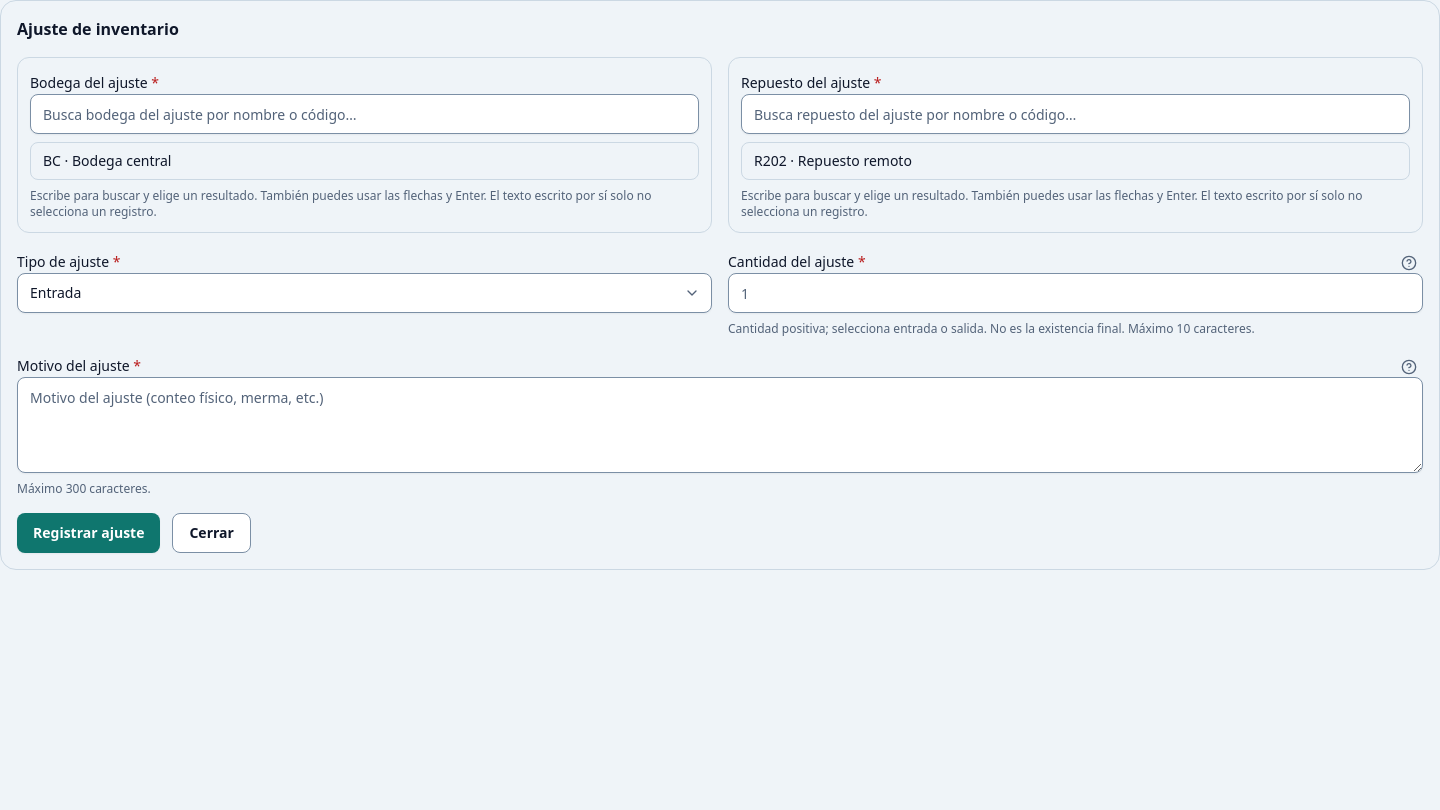
Test: inventario HTTP › ajustes preservan campos y detalles 400
Expected: the option "R202 · Repuesto remoto" is shown, [742,143,1409,179]
Click the option "BC · Bodega central" at [107, 160], box [31,143,698,179]
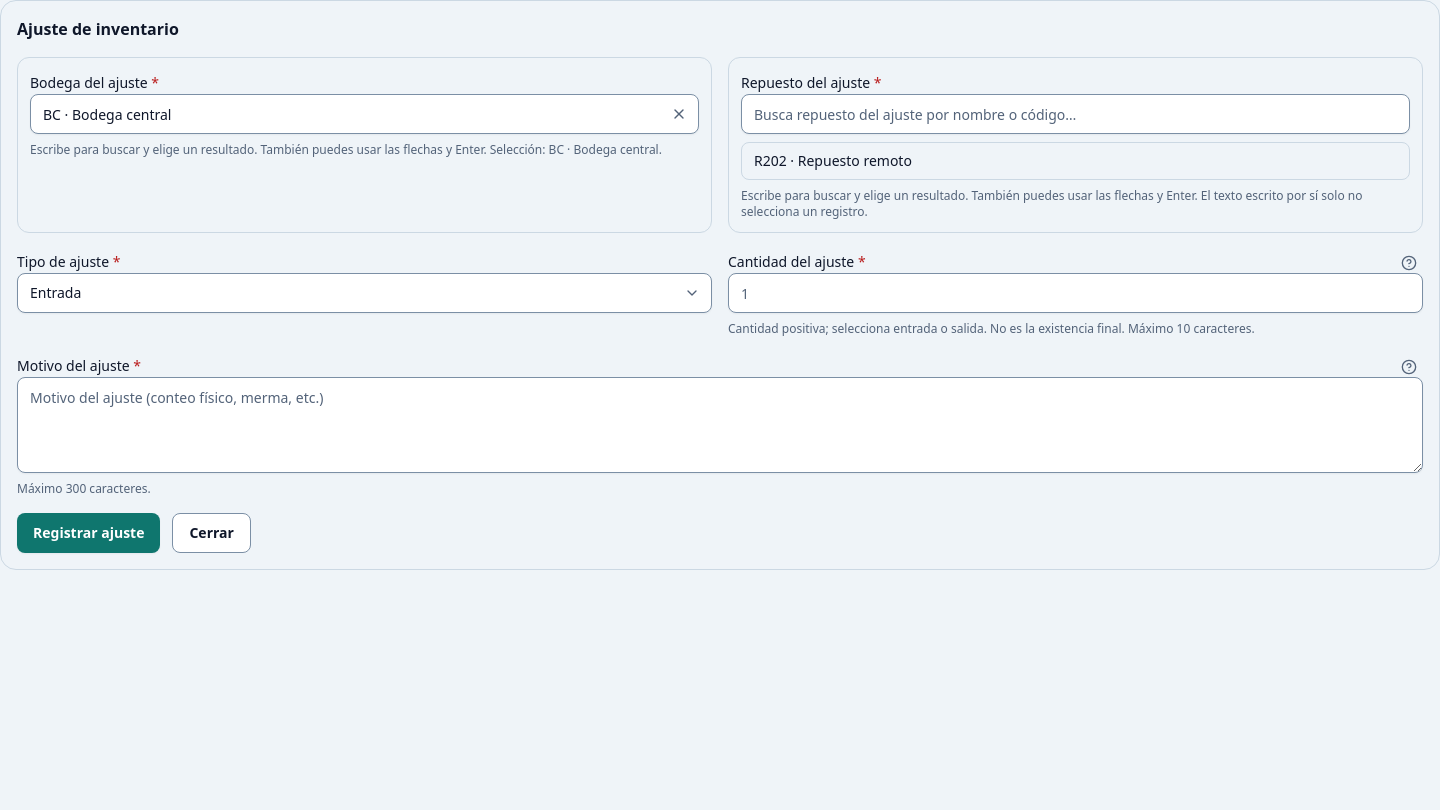
Click the option "R202 · Repuesto remoto" at [833, 160], box [742,143,1409,179]
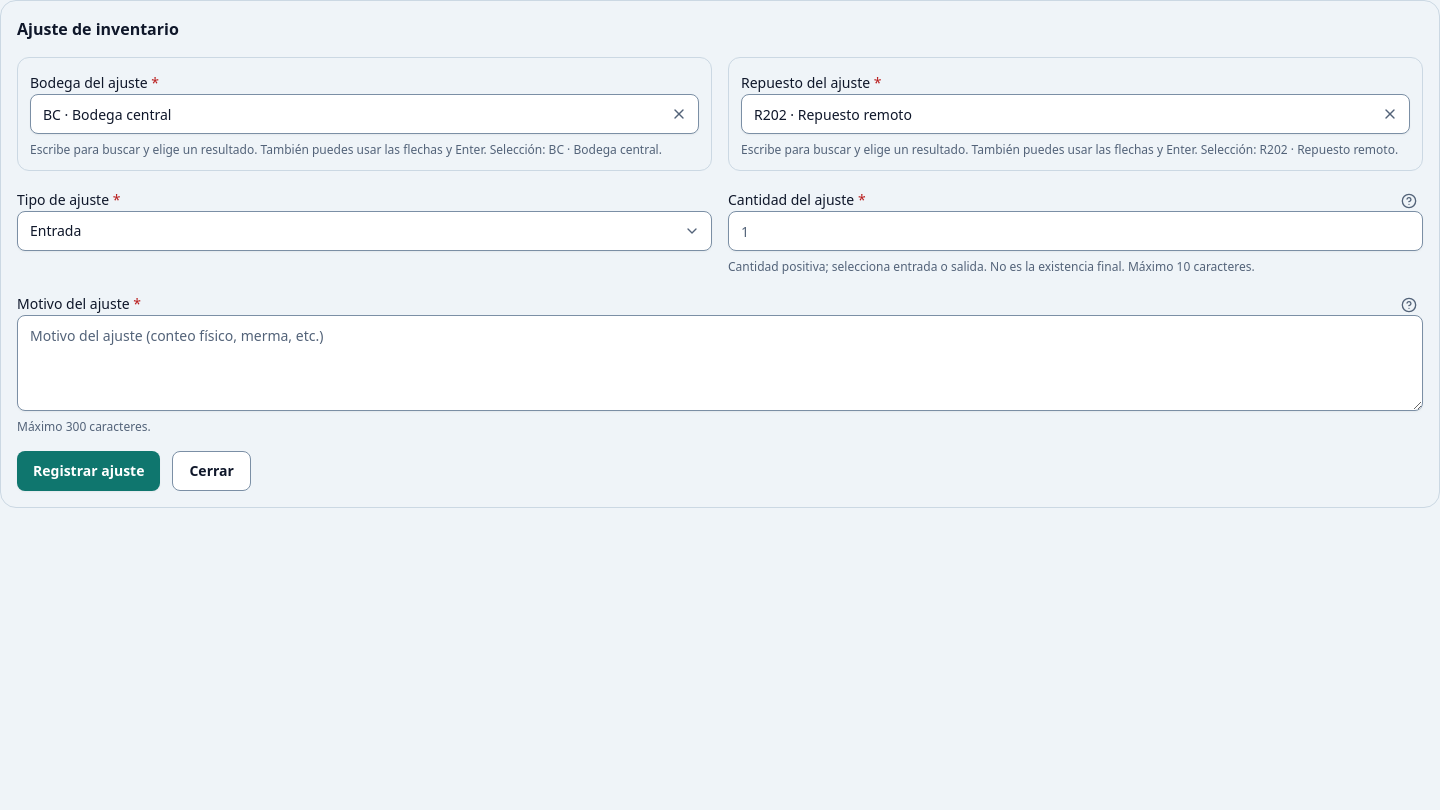
Type "4" into the field labelled "Cantidad del ajuste *" at [1076, 231], box [728,211,1423,251]
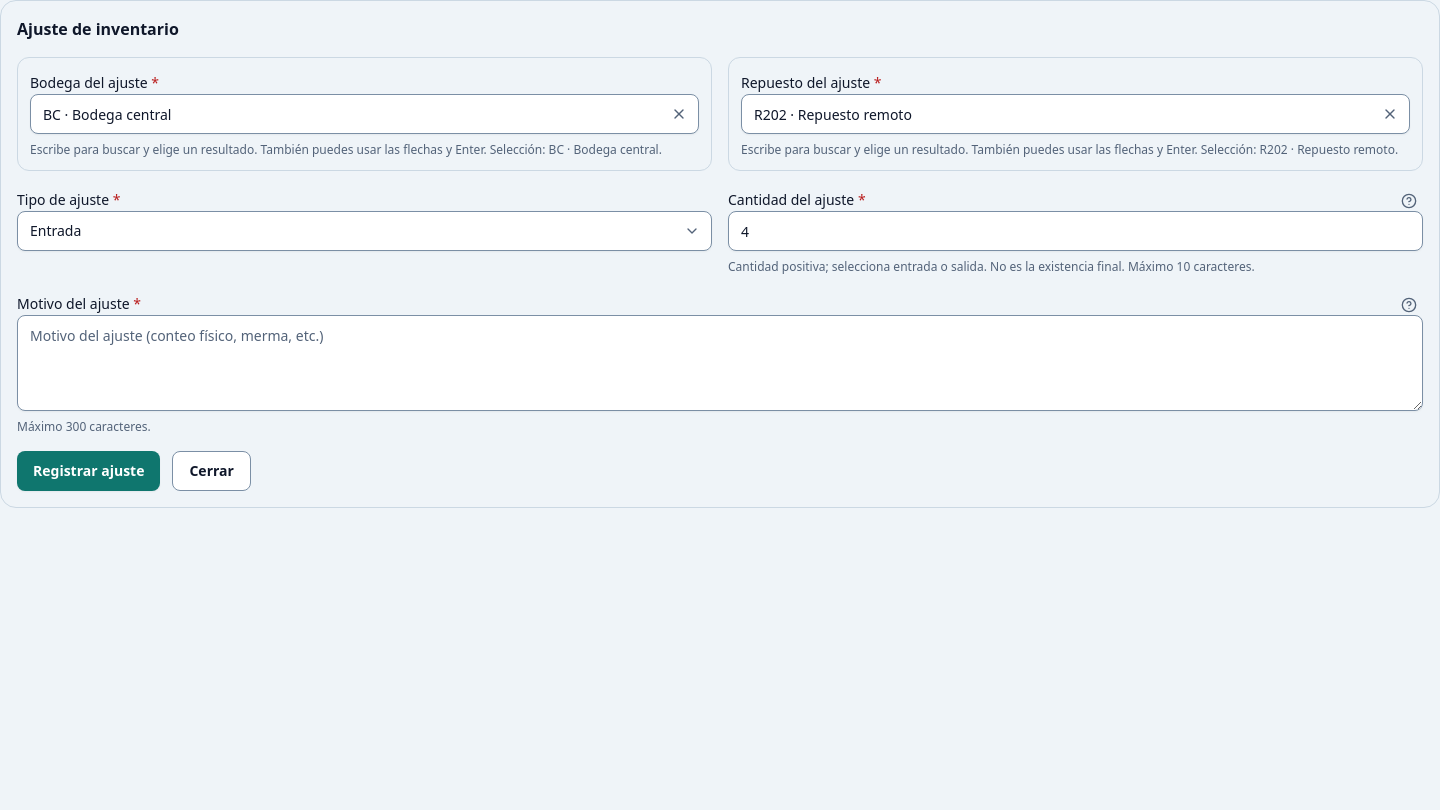
Type " Conteo físico " into the text box labelled "Motivo del ajuste *" at [720, 363], box [17,315,1423,411]
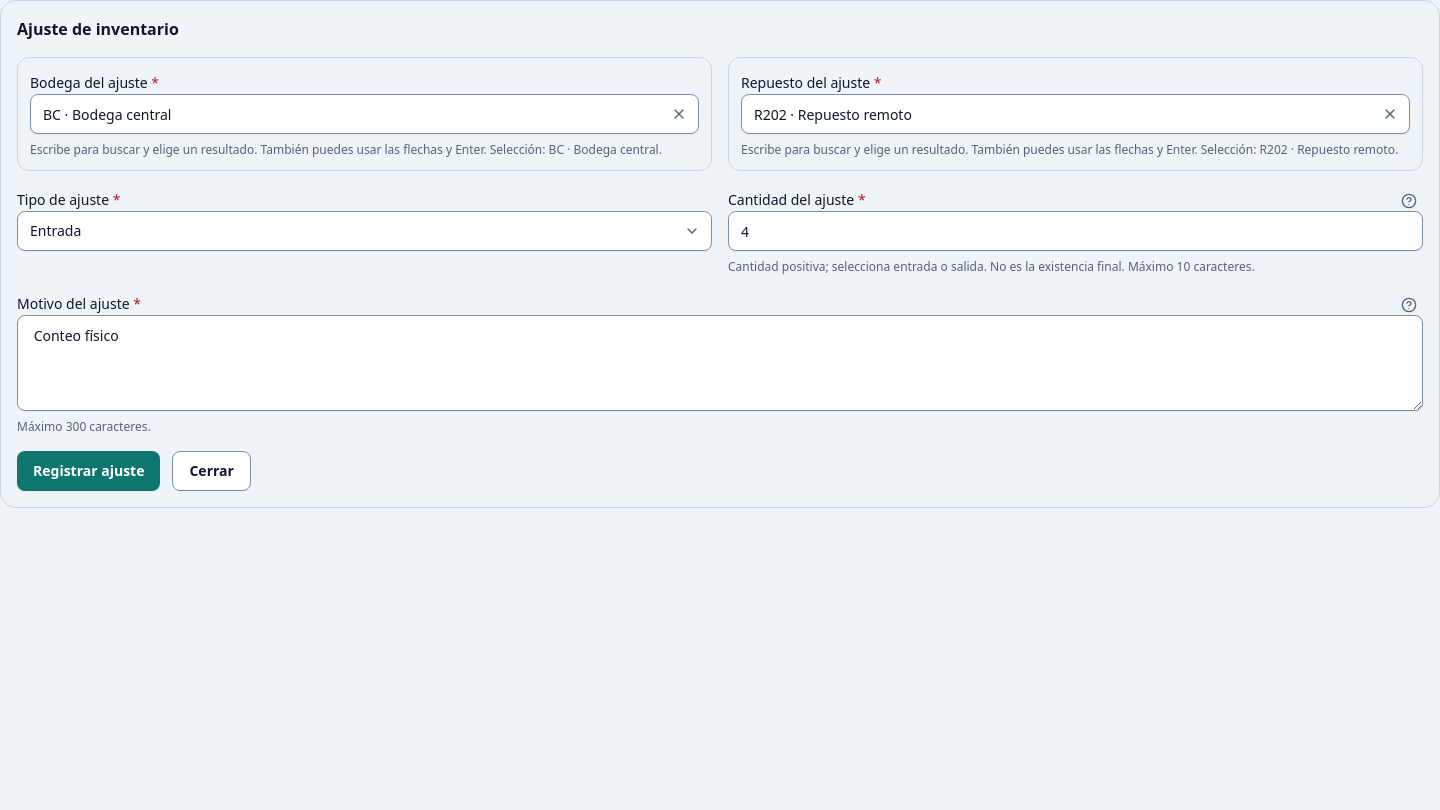
Click the button "Registrar ajuste" at [89, 471], box [17,451,160,491]
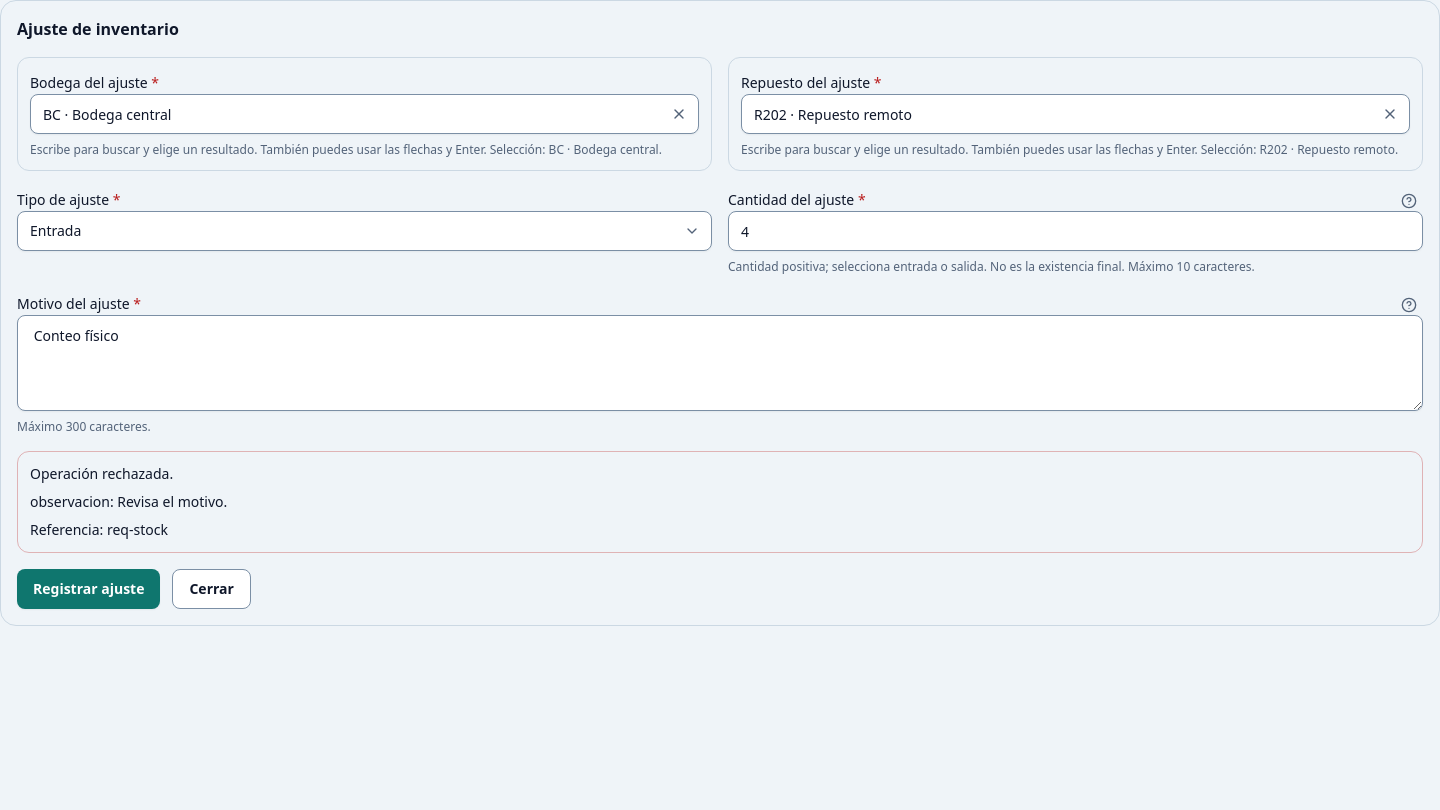
Now the list item "observacion: Revisa el motivo." is shown, box [30,492,227,511]
